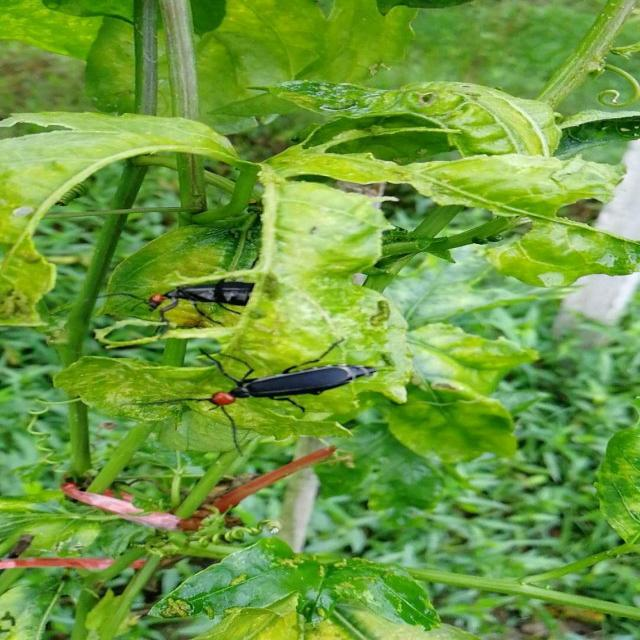BlisterBeetle-Adult-: (151, 341, 395, 436), (117, 273, 270, 317)
